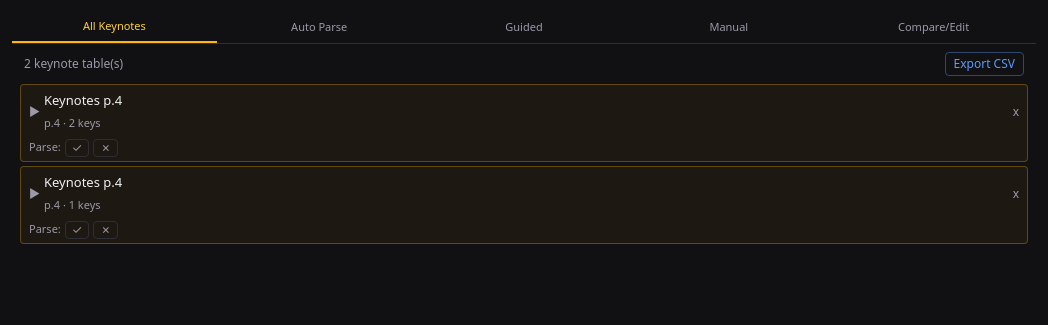
the All Keynotes list acts on the legend its card names › renaming legend B persists B and leaves legend A and its list entry alone
Click the 1st text titled "Click to rename, double-click to navigate" at (83, 100), box 44,90 -> 122,108
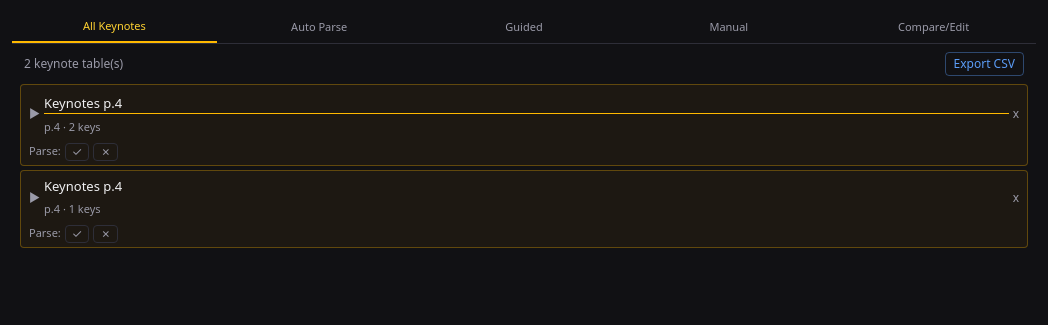
Replace the text in the field with "Second legend" at (526, 104), box 44,94 -> 1009,114
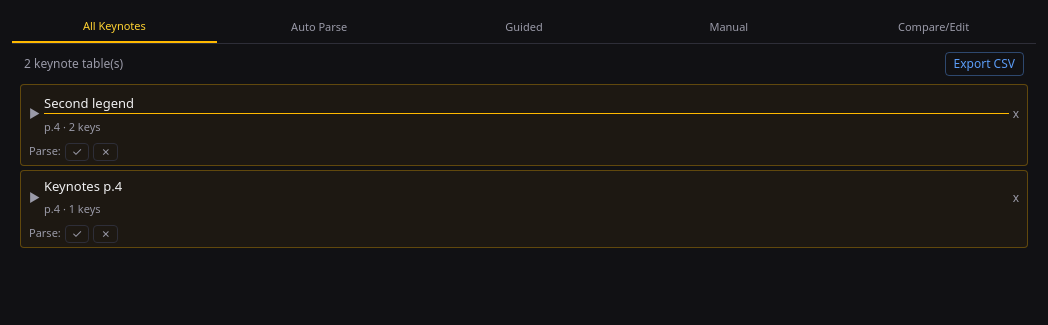
Press Enter in the field, box 44,94 -> 1009,114
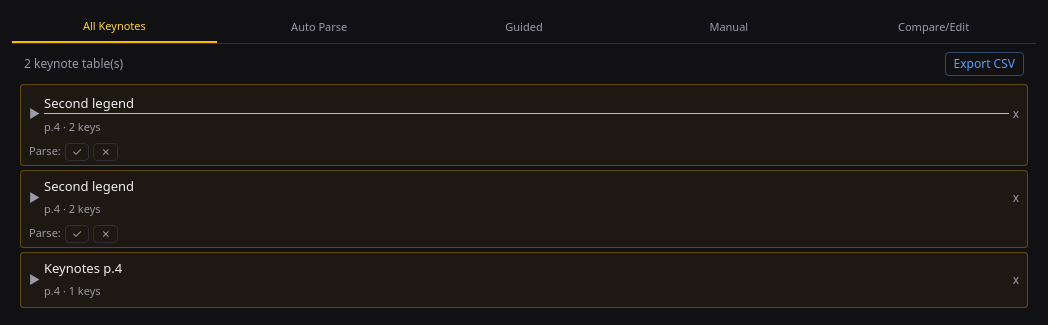
Expected: the text "Second legend" is shown, 44,176 -> 134,194
